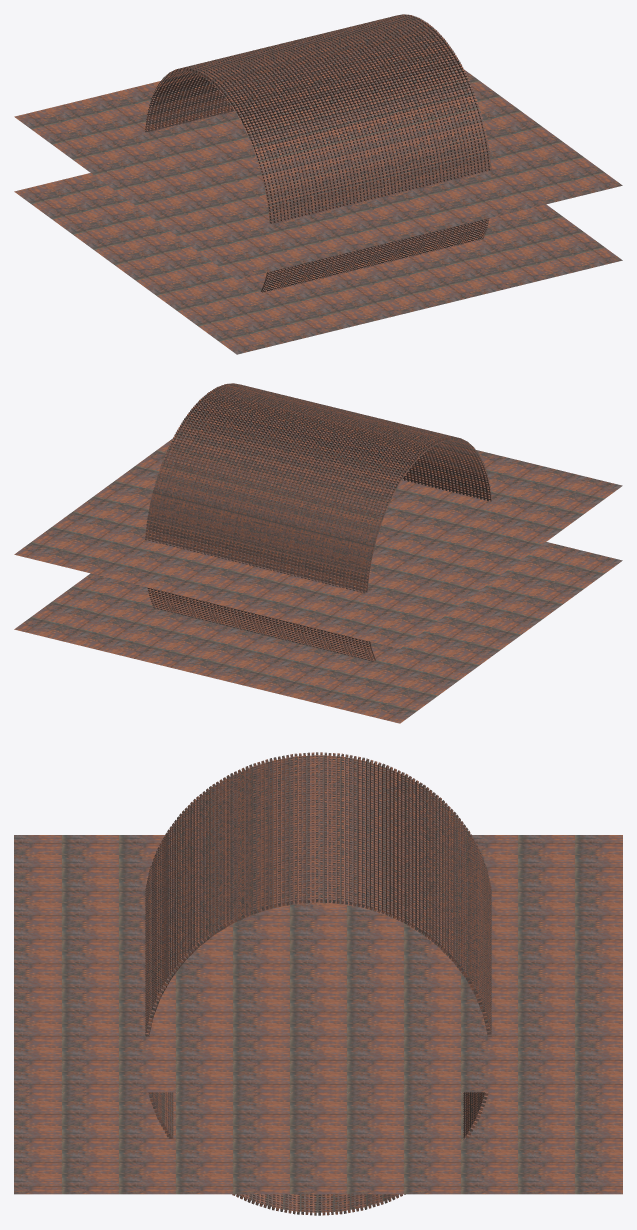
File: seccion.glb
3 views of the same model, one above another, from view 1: azimuth 30°, elevation 25°; view 2: azimuth 150°, elevation 25°; view 3: azimuth 270°, elevation 25° (orthographic). The views are drawn at different scales.
Parts seen in each view (by area): view 1: pain; view 2: pain; view 3: pain.
Boxes of the visible parts, box(x1,y1,x2,y2) form: pain: box(14, 14, 622, 354); pain: box(14, 383, 622, 723); pain: box(14, 752, 622, 1215).
Size of the model in its own units: 54 by 31 by 54.
1 material, 1 textured.
